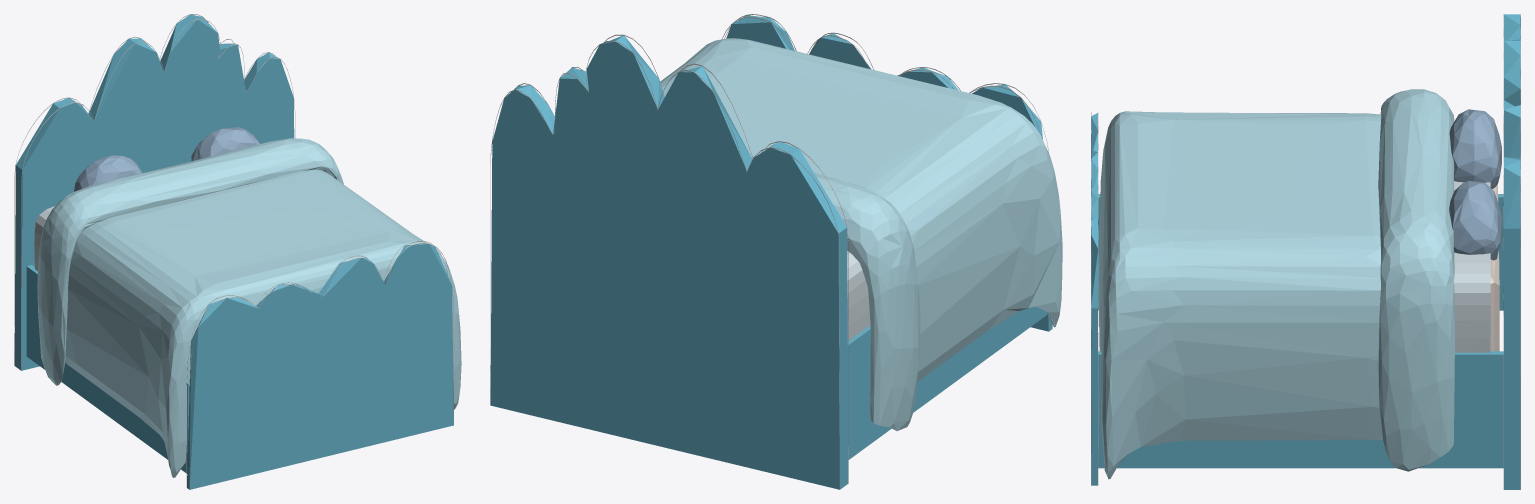
Rendered from sh-bsby-letto-cloud.glb.
The picture shows the model from 3 angles, left to right: view 1: azimuth 30°, elevation 25°; view 2: azimuth 150°, elevation 25°; view 3: azimuth 270°, elevation 25°; orthographic projection. The views are drawn at different scales.
Parts seen in each view (by area): view 1: bed_Mesh.001, Plane.003_Plane.004, Cube.010_Cube.000, letto.003_letto.000; view 2: bed_Mesh.001, Plane.003_Plane.004, letto.003_letto.000, Plane.004_Plane.005; view 3: Plane.003_Plane.004, bed_Mesh.001, Cube.010_Cube.000, Plane.004_Plane.005, letto.003_letto.000, Cube.007_Cube.004.
Part boxes in pixels (x1,y1,x2,y2): bed_Mesh.001: (14,14,453,489); Plane.003_Plane.004: (37,138,461,477); Cube.010_Cube.000: (74,127,260,191); letto.003_letto.000: (14,14,453,489); bed_Mesh.001: (490,15,1052,489); Plane.003_Plane.004: (660,38,1062,430); letto.003_letto.000: (490,14,1052,489); Plane.004_Plane.005: (847,251,870,341); Plane.003_Plane.004: (1098,89,1454,479); bed_Mesh.001: (1091,14,1520,489); Cube.010_Cube.000: (1449,109,1501,260); Plane.004_Plane.005: (1454,181,1490,352); letto.003_letto.000: (1091,14,1520,489); Cube.007_Cube.004: (1490,184,1499,351).
Bounding box in the file's own units: 0.9991 × 1 × 1.
